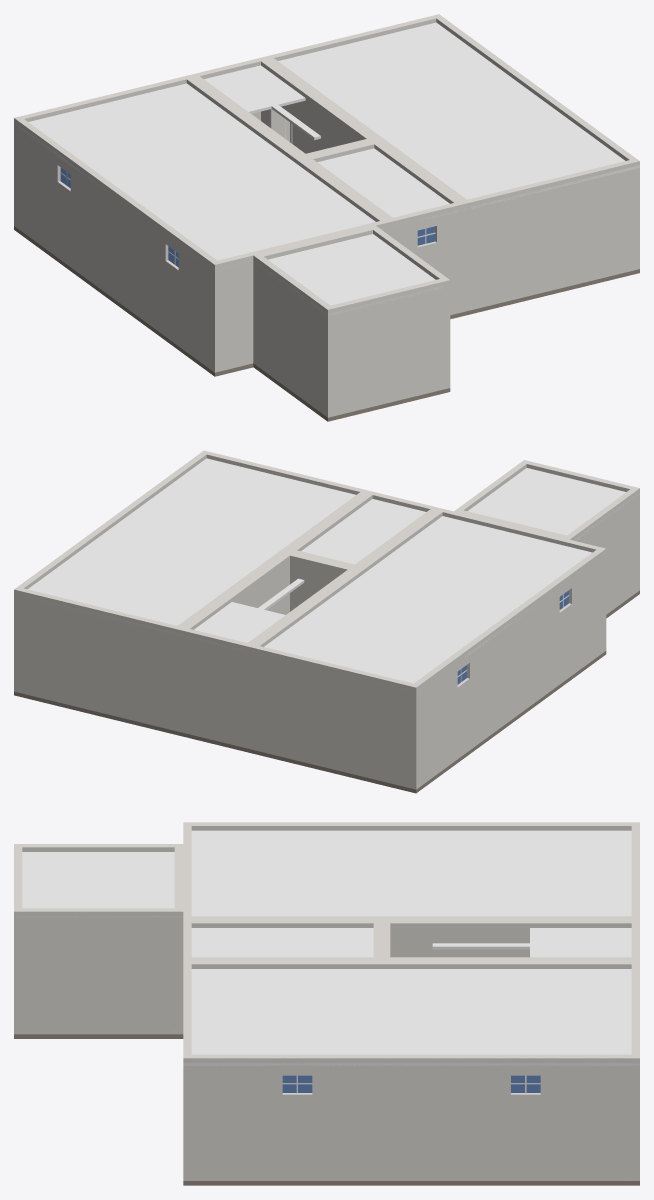
The model's file is interior-basement-v001.glb.
3 renders of one model, top to bottom at view 1: azimuth 30°, elevation 25°; view 2: azimuth 150°, elevation 25°; view 3: azimuth 270°, elevation 25°, orthographic. The views are drawn at different scales.
Parts seen in each view (by area): view 1: interior-basement-v001; view 2: interior-basement-v001; view 3: interior-basement-v001.
Part boxes in pixels (x1,y1,x2,y2): interior-basement-v001: [14, 14, 639, 421]; interior-basement-v001: [14, 450, 639, 793]; interior-basement-v001: [14, 822, 639, 1185].
Size of the model in its own units: 13.2 by 3.32 by 14.8.
